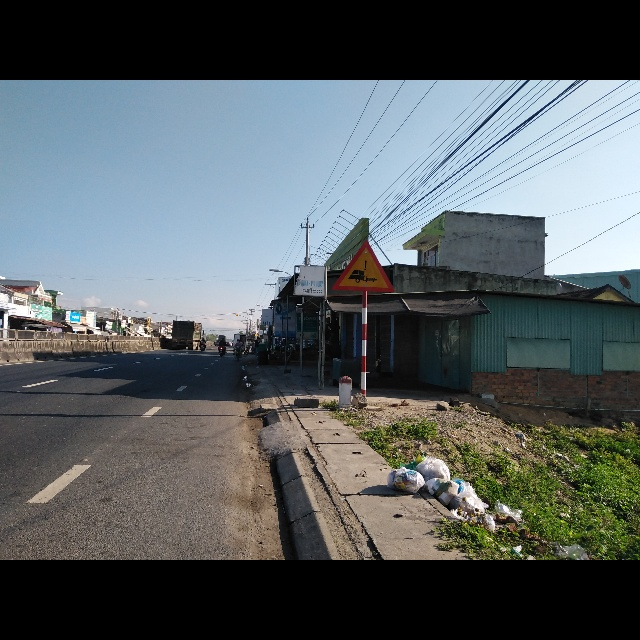Đoạn đường hay xảy ra tai nạn: (332, 238, 396, 293)
